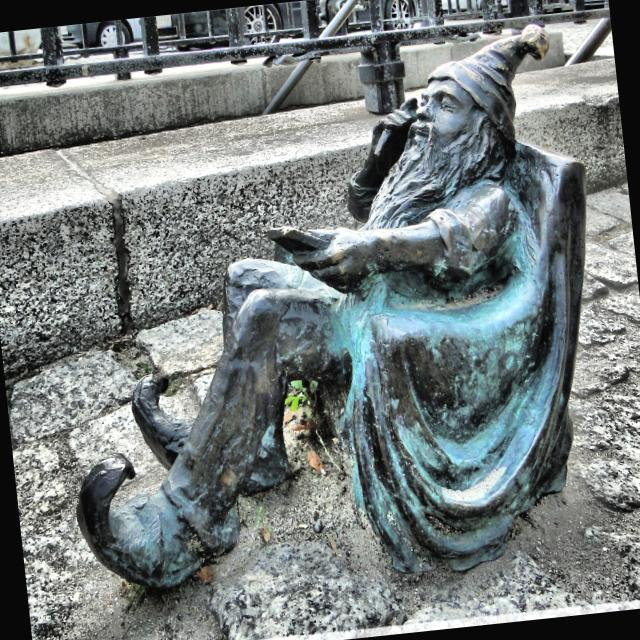Dialogomir: (73, 25, 588, 592)
